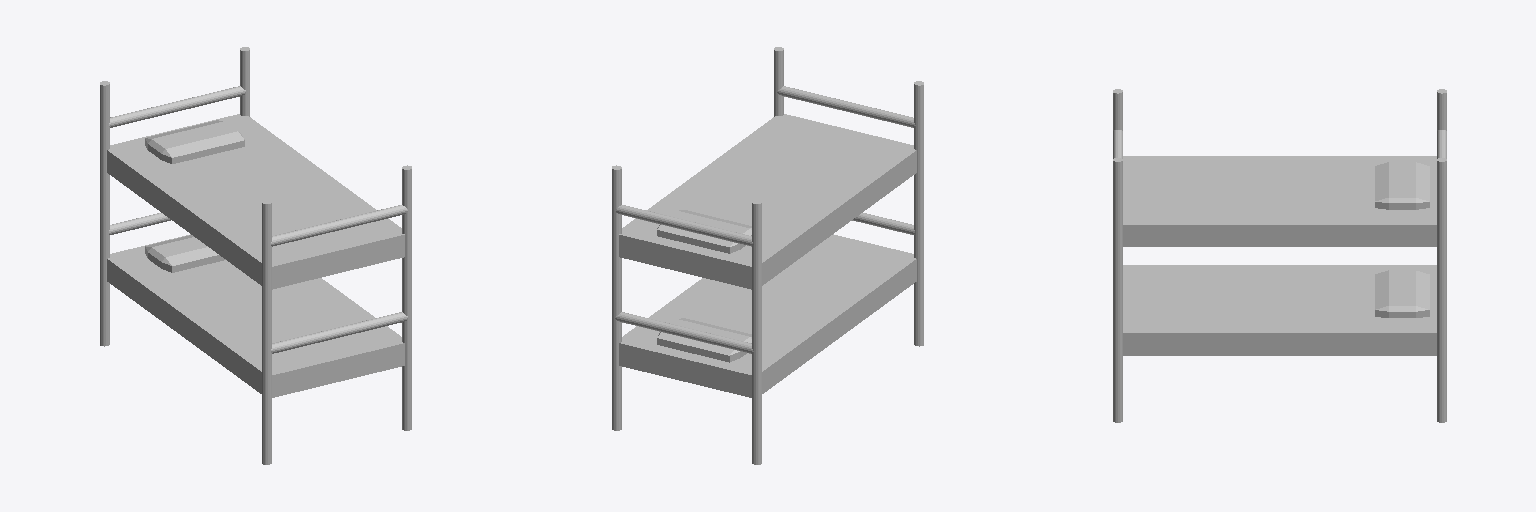
File: Bunk.obj
3 views of the same model, side by side, from view 1: azimuth 30°, elevation 25°; view 2: azimuth 150°, elevation 25°; view 3: azimuth 270°, elevation 25° (orthographic).
Parts seen in each view (by area): view 1: polySurface1 polySurface18, polySurface1 polySurface15, polySurface1 polySurface23, polySurface1 polySurface16, polySurface13 polySurface1, polySurface1 polySurface17, polySurface1 polySurface24, polySurface1 polySurface20, polySurface1 polySurface21, polySurface1 polySurface22, polySurface1 polySurface14, polySurface1 polySurface19; view 2: polySurface1 polySurface18, polySurface1 polySurface15, polySurface13 polySurface1, polySurface1 polySurface16, polySurface1 polySurface14, polySurface1 polySurface24, polySurface1 polySurface23, polySurface1 polySurface19, polySurface1 polySurface22, polySurface1 polySurface21, polySurface1 polySurface17, polySurface1 polySurface20; view 3: polySurface1 polySurface18, polySurface1 polySurface15, polySurface1 polySurface14, polySurface1 polySurface17, polySurface1 polySurface24, polySurface1 polySurface23.
Boxes of the visible parts, x1,y1,x2,y2 form: polySurface1 polySurface18: [107, 114, 404, 289]; polySurface1 polySurface15: [107, 234, 404, 397]; polySurface1 polySurface23: [145, 120, 244, 163]; polySurface1 polySurface16: [262, 200, 271, 464]; polySurface13 polySurface1: [100, 81, 109, 346]; polySurface1 polySurface17: [402, 165, 411, 430]; polySurface1 polySurface24: [145, 235, 225, 272]; polySurface1 polySurface20: [271, 312, 407, 353]; polySurface1 polySurface21: [109, 86, 245, 127]; polySurface1 polySurface22: [271, 205, 407, 246]; polySurface1 polySurface14: [240, 47, 249, 116]; polySurface1 polySurface19: [109, 213, 170, 234]; polySurface1 polySurface18: [619, 114, 916, 289]; polySurface1 polySurface15: [619, 234, 916, 397]; polySurface13 polySurface1: [752, 200, 761, 464]; polySurface1 polySurface16: [914, 81, 923, 346]; polySurface1 polySurface14: [612, 165, 621, 430]; polySurface1 polySurface24: [657, 318, 751, 362]; polySurface1 polySurface23: [657, 210, 751, 253]; polySurface1 polySurface19: [615, 312, 753, 353]; polySurface1 polySurface22: [777, 86, 915, 127]; polySurface1 polySurface21: [615, 205, 753, 246]; polySurface1 polySurface17: [774, 47, 783, 116]; polySurface1 polySurface20: [852, 213, 914, 234]; polySurface1 polySurface18: [1123, 156, 1436, 246]; polySurface1 polySurface15: [1123, 265, 1436, 355]; polySurface1 polySurface14: [1437, 158, 1446, 422]; polySurface1 polySurface17: [1113, 158, 1122, 422]; polySurface1 polySurface24: [1375, 270, 1429, 317]; polySurface1 polySurface23: [1375, 162, 1429, 209].
Size of the model in its own units: 10.66 by 17.77 by 20.66.